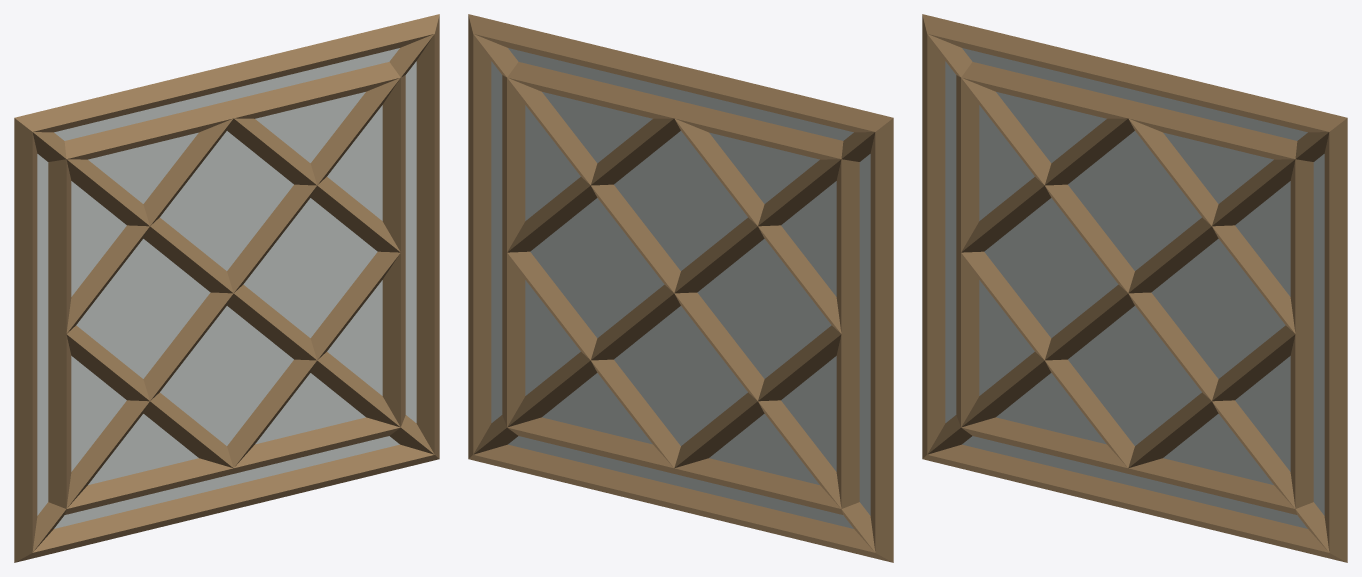
Rendered from SM_Env_Window_10.fbx.
3 renders of one model, left to right at view 1: azimuth 30°, elevation 25°; view 2: azimuth 150°, elevation 25°; view 3: azimuth 330°, elevation 25°, orthographic.
Visible parts, largest first — view 1: SM_Env_Window_10; view 2: SM_Env_Window_10; view 3: SM_Env_Window_10.
Boxes of the visible parts, x1,y1,x2,y2 form: SM_Env_Window_10: (14,14,439,562); SM_Env_Window_10: (468,14,893,562); SM_Env_Window_10: (922,14,1347,562).
Bounding box in the file's own units: 97.23 × 97.23 × 5.3.
Materials: 1 (1 with a texture image).
